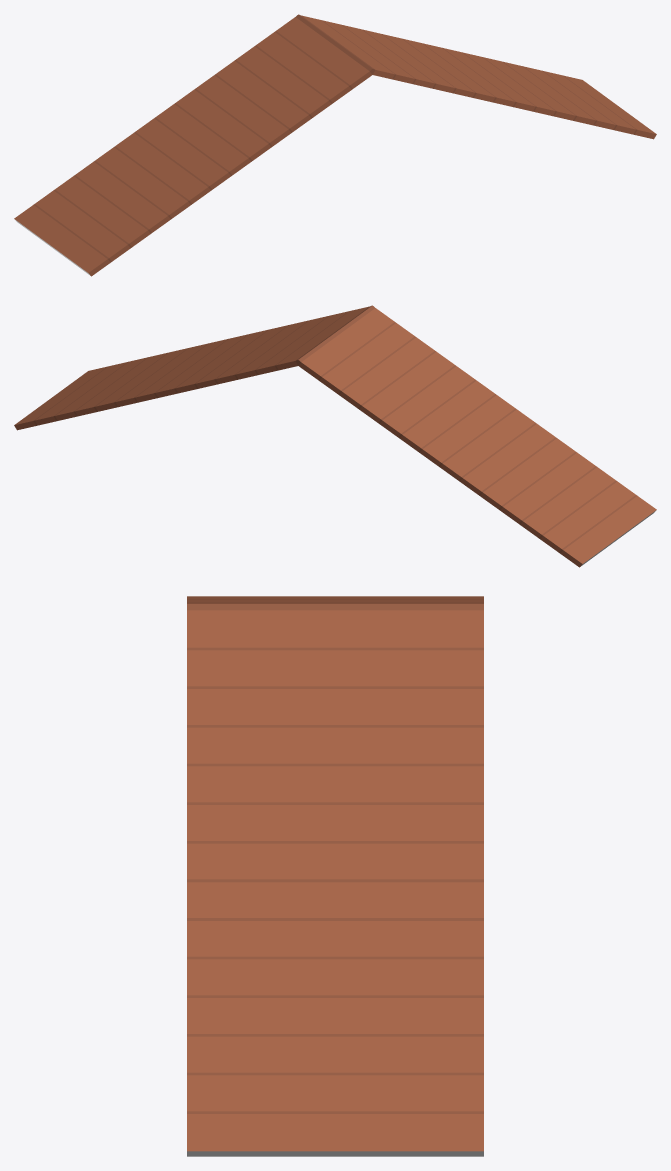
The model's file is Roof5_C5_01.fbx.
3 views of the same model, one above another, from view 1: azimuth 30°, elevation 25°; view 2: azimuth 150°, elevation 25°; view 3: azimuth 270°, elevation 25° (orthographic). The views are drawn at different scales.
Parts seen in each view (by area): view 1: Roof5_C5_01; view 2: Roof5_C5_01; view 3: Roof5_C5_01.
Boxes of the visible parts, x1,y1,x2,y2 form: Roof5_C5_01: [14, 14, 656, 276]; Roof5_C5_01: [14, 305, 656, 567]; Roof5_C5_01: [187, 596, 483, 1156].
Bounding box in the file's own units: 1105 × 258 × 250.
